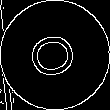O_E: (25, 28, 85, 82)
